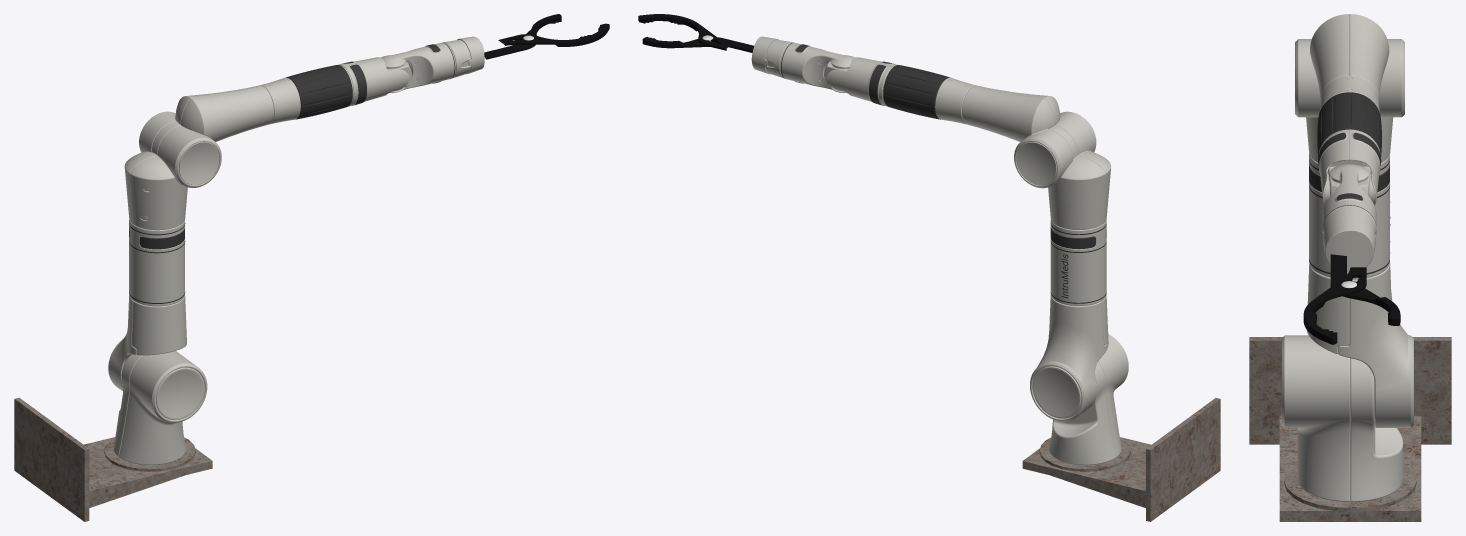
The model's file is arm_cobot_claw.glb.
3 views of the same model, side by side, from view 1: azimuth 30°, elevation 25°; view 2: azimuth 150°, elevation 25°; view 3: azimuth 270°, elevation 25° (orthographic). The views are drawn at different scales.
Visible parts, largest first — view 1: arm_shoulder, arm_mount, arm_elbow, arm_base, arm_wrist_pitch, arm_wrist_roll, claw_jaw, claw_body; view 2: arm_shoulder, arm_elbow, arm_mount, arm_base, arm_wrist_pitch, arm_wrist_roll, claw_jaw, claw_body; view 3: arm_base, arm_shoulder, arm_mount, arm_elbow, arm_wrist_pitch, arm_wrist_roll, claw_jaw, claw_body.
Part boxes in pixels (bbox=[...]): arm_shoulder: bbox=[108, 121, 221, 391]; arm_mount: bbox=[14, 397, 212, 521]; arm_elbow: bbox=[139, 65, 352, 152]; arm_base: bbox=[113, 351, 207, 464]; arm_wrist_pitch: bbox=[380, 36, 484, 93]; arm_wrist_roll: bbox=[338, 57, 411, 106]; claw_jaw: bbox=[498, 23, 609, 46]; claw_body: bbox=[484, 14, 561, 59]; arm_shoulder: bbox=[1030, 111, 1111, 421]; arm_elbow: bbox=[883, 65, 1072, 188]; arm_mount: bbox=[1022, 398, 1220, 521]; arm_base: bbox=[1049, 334, 1128, 465]; arm_wrist_pitch: bbox=[751, 36, 855, 93]; arm_wrist_roll: bbox=[824, 57, 897, 106]; claw_jaw: bbox=[638, 14, 731, 50]; claw_body: bbox=[642, 35, 754, 52]; arm_base: bbox=[1281, 335, 1403, 501]; arm_shoulder: bbox=[1295, 39, 1413, 427]; arm_mount: bbox=[1249, 337, 1451, 521]; arm_elbow: bbox=[1310, 14, 1404, 156]; arm_wrist_pitch: bbox=[1322, 164, 1376, 273]; arm_wrist_roll: bbox=[1318, 129, 1381, 205]; claw_jaw: bbox=[1303, 267, 1366, 344]; claw_body: bbox=[1330, 254, 1400, 325].
Size of the model in its own units: 1.37 by 0.8607 by 0.3.
7 materials, 1 textured.
